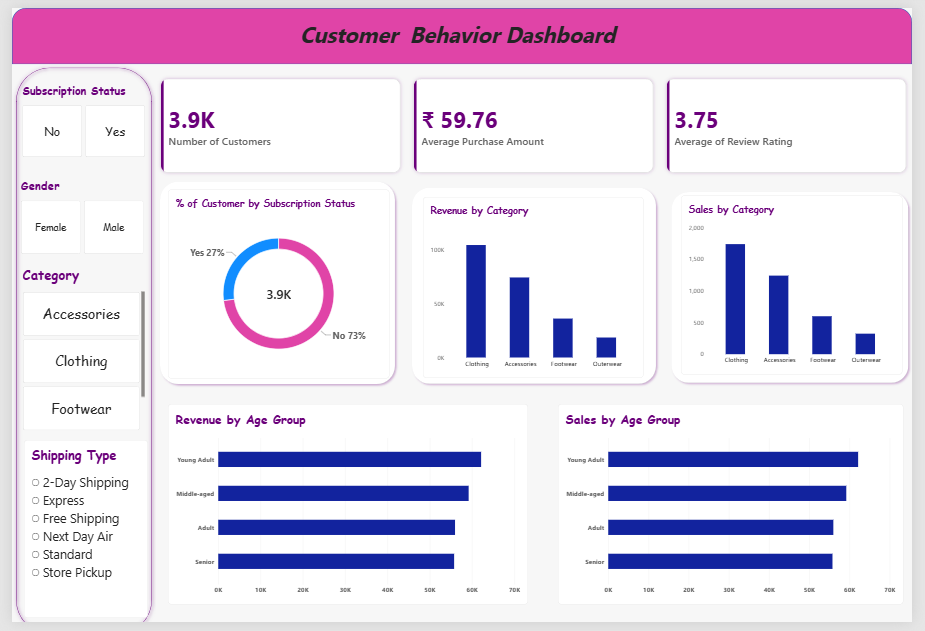

This screenshot's page, from the dashboard's own definition file:
{"tool":"powerbi","page":{"name":"Page 1","canvas":[2000,1364],"ordinal":0},"visuals":[{"type":"cardVisual","fields":{"Data":["da_project customer.Number of Customers","da_project customer.Average Purchase Amount","da_project customer.Average of Review Rating"]},"box":[320,145,1680,230],"z":0},{"type":"shape","box":[0,0,2000,125],"z":1},{"type":"textbox","box":[0,27.5,1980,97.5],"z":2},{"type":"shape","box":[320,376,540,468],"z":3},{"type":"donutChart","title":"% of Customer by Subscription Status","fields":{"Category":["da_project customer.subscription_status"],"Y":["Count(da_project customer.customer_id)"]},"box":[346,402,492,420],"z":4},{"type":"shape","box":[1455,400,544,442],"z":5},{"type":"shape","box":[880,390,560,454],"z":6},{"type":"clusteredColumnChart","title":"Revenue by Category","fields":{"Y":["Sum(da_project customer.purchase_amount)"],"Category":["da_project customer.category"]},"box":[914,420,490,402],"z":7},{"type":"clusteredColumnChart","title":"Sales by Category","fields":{"Y":["Count(da_project customer.customer_id)"],"Category":["da_project customer.category"]},"box":[1487.5,415,492,398],"z":8},{"type":"shape","box":[0,126,320,1274],"z":9},{"type":"advancedSlicerVisual","fields":{"Values":["da_project customer.subscription_status"]},"box":[22.5,165,272.5,165],"z":10},{"type":"advancedSlicerVisual","fields":{"Values":["da_project customer.gender"]},"box":[20,376,272,170],"z":11},{"type":"advancedSlicerVisual","title":"Category","fields":{"Values":["da_project customer.category"]},"box":[24,572,272.5,365],"z":12},{"type":"listSlicer","title":"Shipping Type","fields":{"Values":["da_project customer.shipping_type"]},"box":[25,960,275,395],"z":13},{"type":"clusteredBarChart","title":"Revenue by Age Group","fields":{"Category":["da_project customer.age_group"],"Y":["Sum(da_project customer.purchase_amount)"]},"box":[345,880,800,445],"z":15},{"type":"shape","box":[320,847.5,840,510],"z":16},{"type":"clusteredBarChart","title":"Sales by Age Group","fields":{"Category":["da_project customer.age_group"],"Y":["Sum(da_project customer.purchase_amount)"]},"box":[1212.5,880,767.5,445],"z":17},{"type":"shape","box":[1192.5,837.5,807.5,527.5],"z":18}]}

Visuals, with their boxes in screenshot pixels (x1, y1, x2, y2), scaled from the page's 2000x1364 canvas onto the 925x631 screenshot:
cardVisual - da_project customer.Number of Customers x da_project customer.Average Purchase Amount: left=148, top=67, right=924, bottom=173
shape: left=0, top=0, right=924, bottom=58
textbox: left=0, top=13, right=916, bottom=58
shape: left=148, top=174, right=398, bottom=390
"% of Customer by Subscription Status" donutChart: left=160, top=186, right=388, bottom=380
shape: left=673, top=185, right=924, bottom=390
shape: left=407, top=180, right=666, bottom=390
"Revenue by Category" clusteredColumnChart: left=423, top=194, right=649, bottom=380
"Sales by Category" clusteredColumnChart: left=688, top=192, right=916, bottom=376
shape: left=0, top=58, right=148, bottom=630
advancedSlicerVisual - da_project customer.subscription_status: left=10, top=76, right=136, bottom=153
advancedSlicerVisual - da_project customer.gender: left=9, top=174, right=135, bottom=253
"Category" advancedSlicerVisual: left=11, top=265, right=137, bottom=433
"Shipping Type" listSlicer: left=12, top=444, right=139, bottom=627
"Revenue by Age Group" clusteredBarChart: left=160, top=407, right=530, bottom=613
shape: left=148, top=392, right=536, bottom=628
"Sales by Age Group" clusteredBarChart: left=561, top=407, right=916, bottom=613
shape: left=552, top=387, right=924, bottom=630
